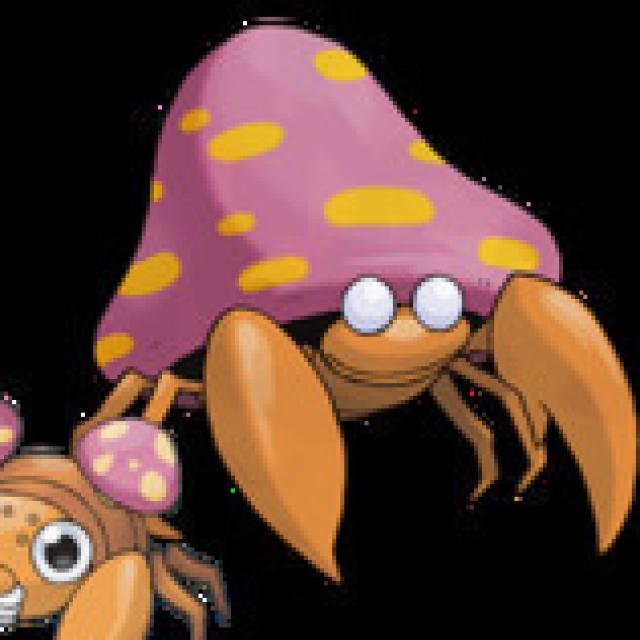Parasect: (132, 29, 622, 557)
